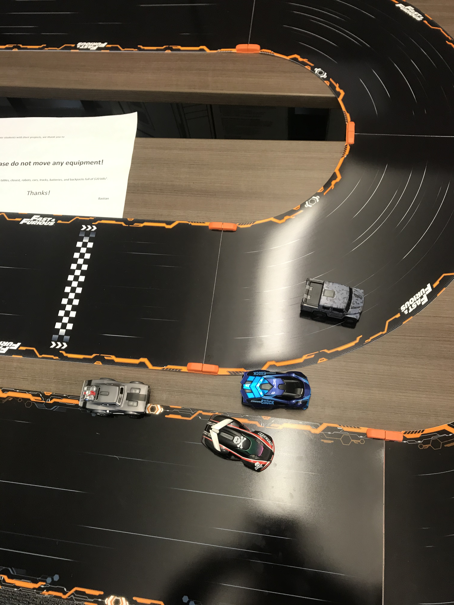Charger: (78, 376, 149, 419)
Finish Line: (51, 223, 96, 349)
MXT: (299, 276, 366, 328)
Shock: (240, 369, 312, 411)
Skull: (201, 413, 276, 473)
